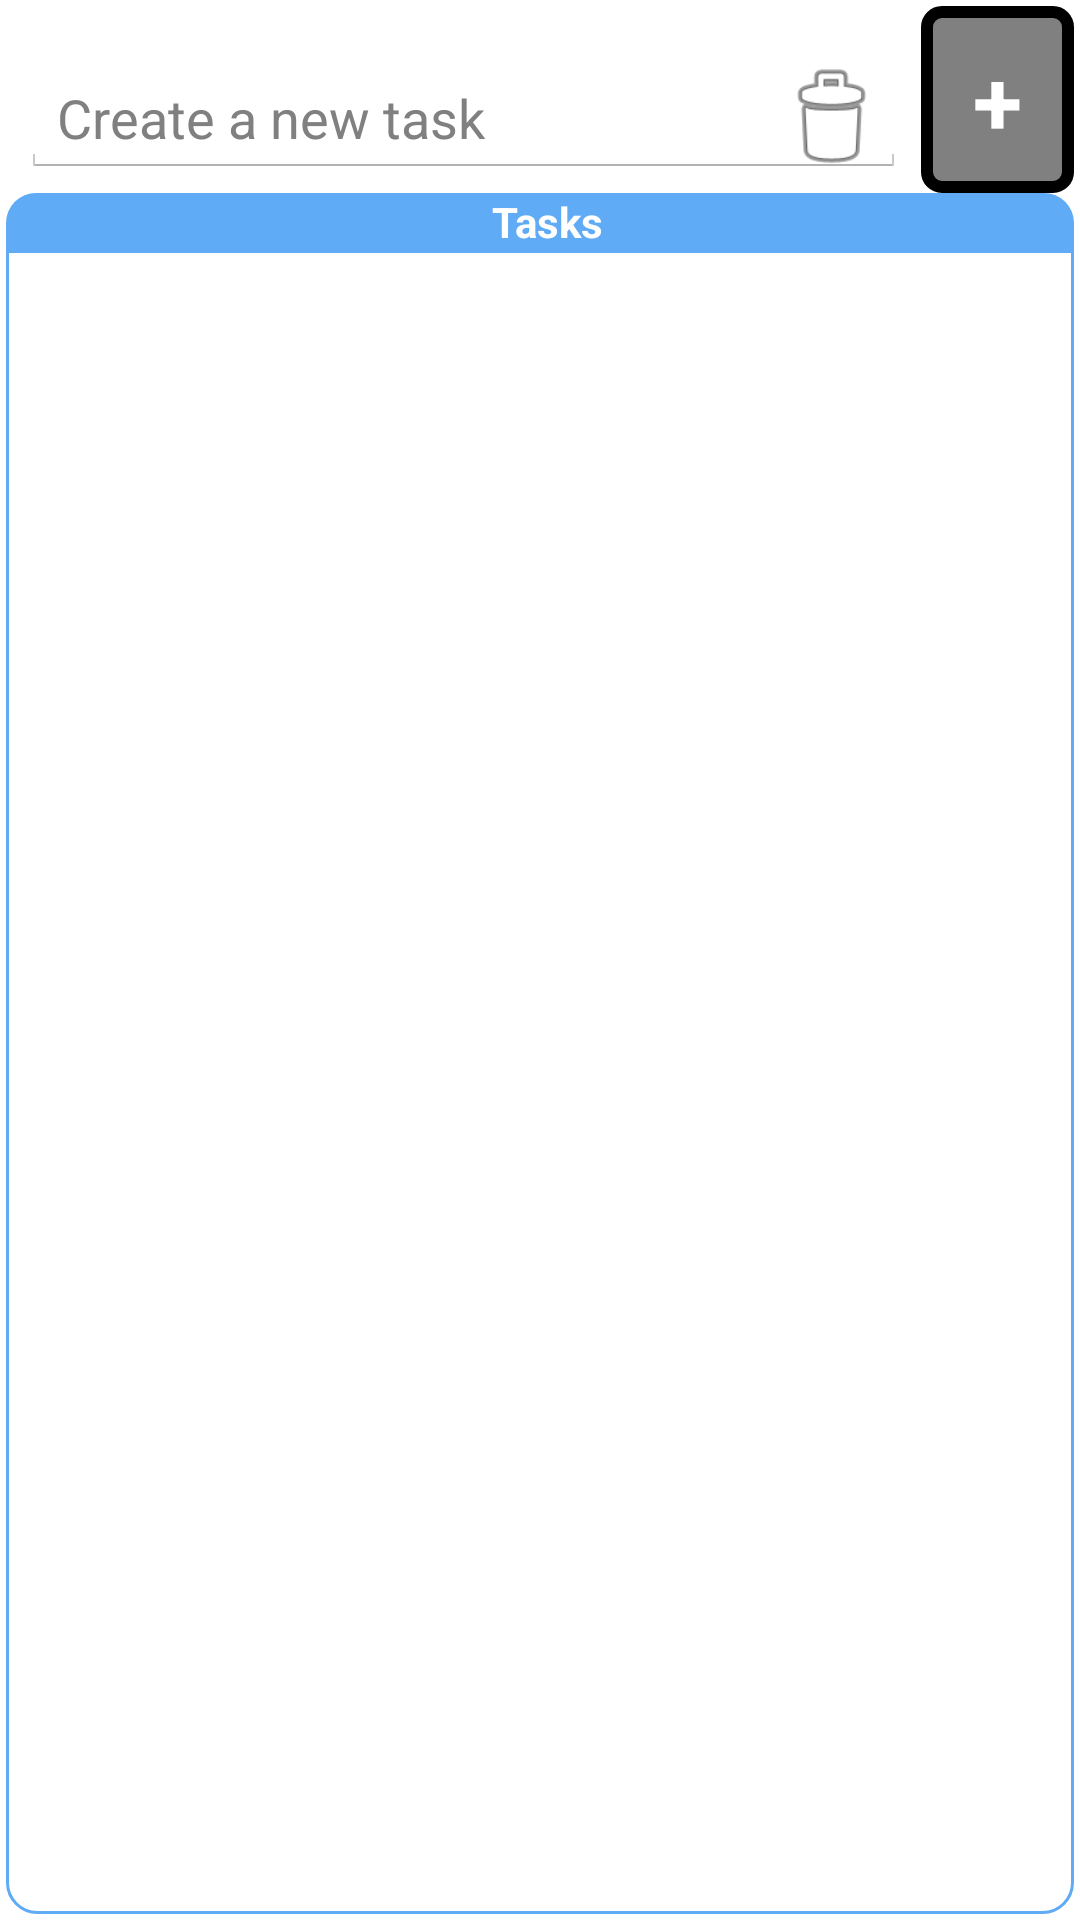

Named icons in this screenshot (1080 x 1920) and their centers, [x,y]:
delete: [832,116]
